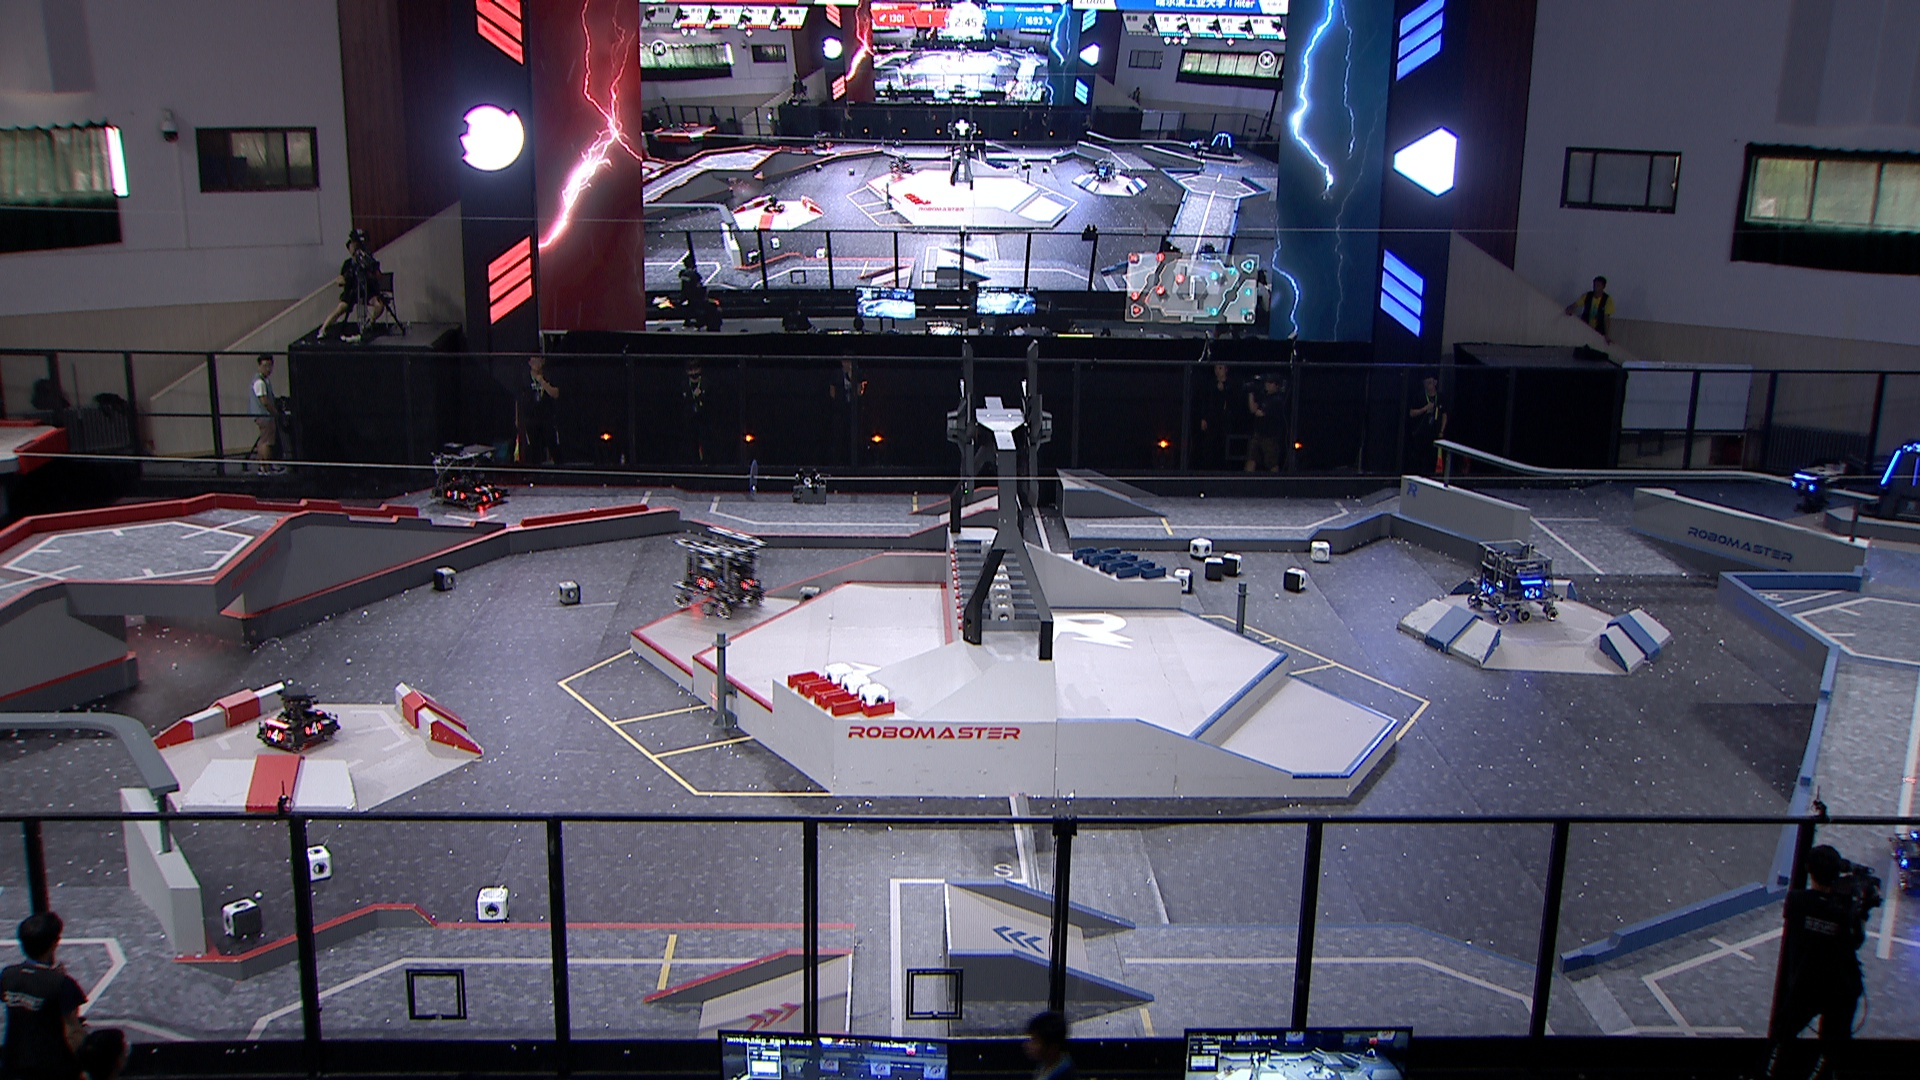armor: (1879, 447, 1903, 485), (465, 480, 496, 496), (1789, 477, 1816, 495), (694, 572, 713, 593), (440, 487, 465, 502), (1909, 452, 1920, 489), (305, 716, 323, 737), (1892, 845, 1908, 869), (264, 727, 286, 742), (1477, 579, 1495, 597), (1523, 584, 1542, 603), (479, 488, 501, 502), (737, 576, 756, 593), (305, 704, 327, 717)
base: (1855, 433, 1920, 526)
car: (671, 524, 770, 617), (1466, 535, 1565, 624), (257, 687, 345, 750), (433, 440, 512, 510), (1882, 815, 1920, 897)
ignore: (1205, 131, 1236, 158), (884, 150, 913, 174), (1092, 156, 1117, 182), (761, 194, 789, 215), (1187, 135, 1207, 158), (812, 131, 833, 152)
watcher: (1783, 460, 1846, 516)
